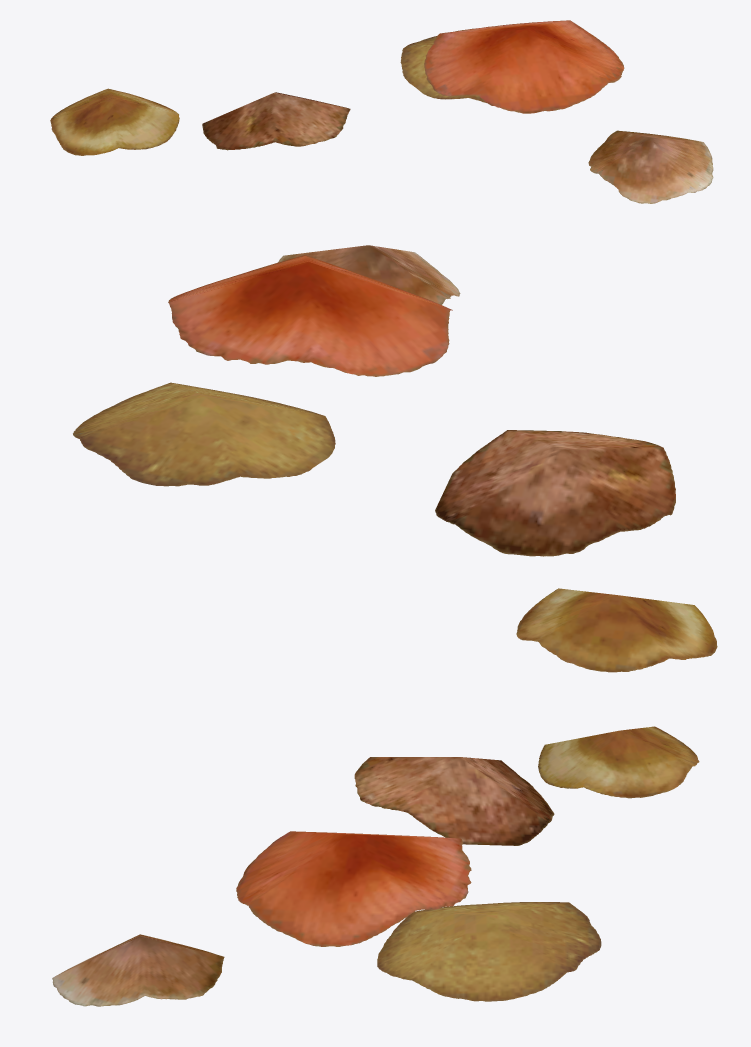
Rendered from fngi_mushroom_clump_a3_l2.fbx.
The picture shows the model from 3 angles, top to bottom: view 1: azimuth 30°, elevation 25°; view 2: azimuth 150°, elevation 25°; view 3: azimuth 270°, elevation 25°; orthographic projection. The views are drawn at different scales.
Parts seen in each view (by area): view 1: mesh_node; view 2: mesh_node; view 3: mesh_node.
Part boxes in pixels (box(x1,y1,x2,y2)): mesh_node: box(50, 20, 713, 203); mesh_node: box(73, 245, 717, 672); mesh_node: box(52, 726, 699, 1006).
Bounding box in the file's own units: 1.24 × 0.2373 × 1.16.
